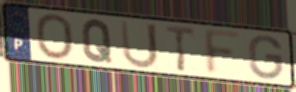F: (203, 27, 245, 77)
G: (247, 33, 285, 81)
O: (33, 12, 75, 62)
Q: (81, 18, 114, 64)
T: (163, 23, 198, 74)
U: (118, 18, 161, 71)
